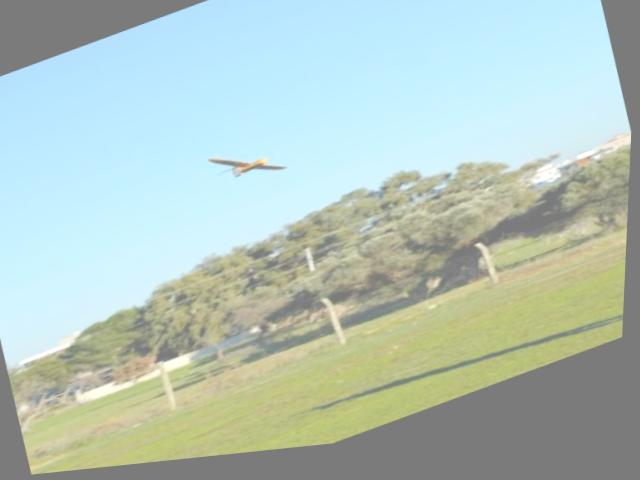iha: (207, 140, 288, 199)
